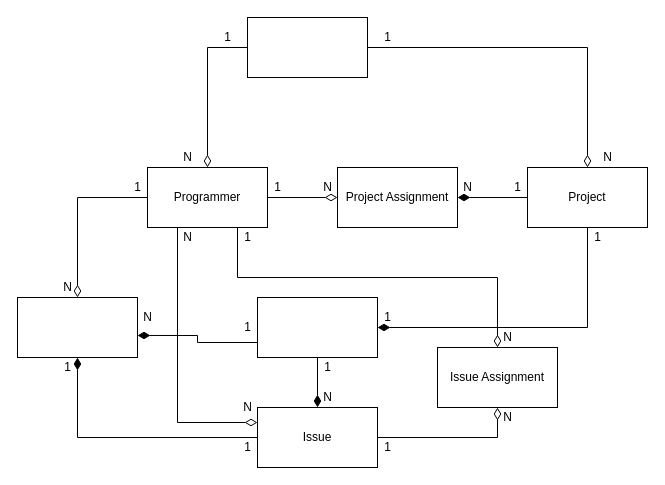
Some shapes in this 665 by 485 pixel diagram are drawn without their labels. The shapes that lost their labels are listed below. From the top down, each one's centre as x and y in pixels, then its label:
At (307,47): "Department".
At (77,327): "Commit".
At (317,327): "Repository".
